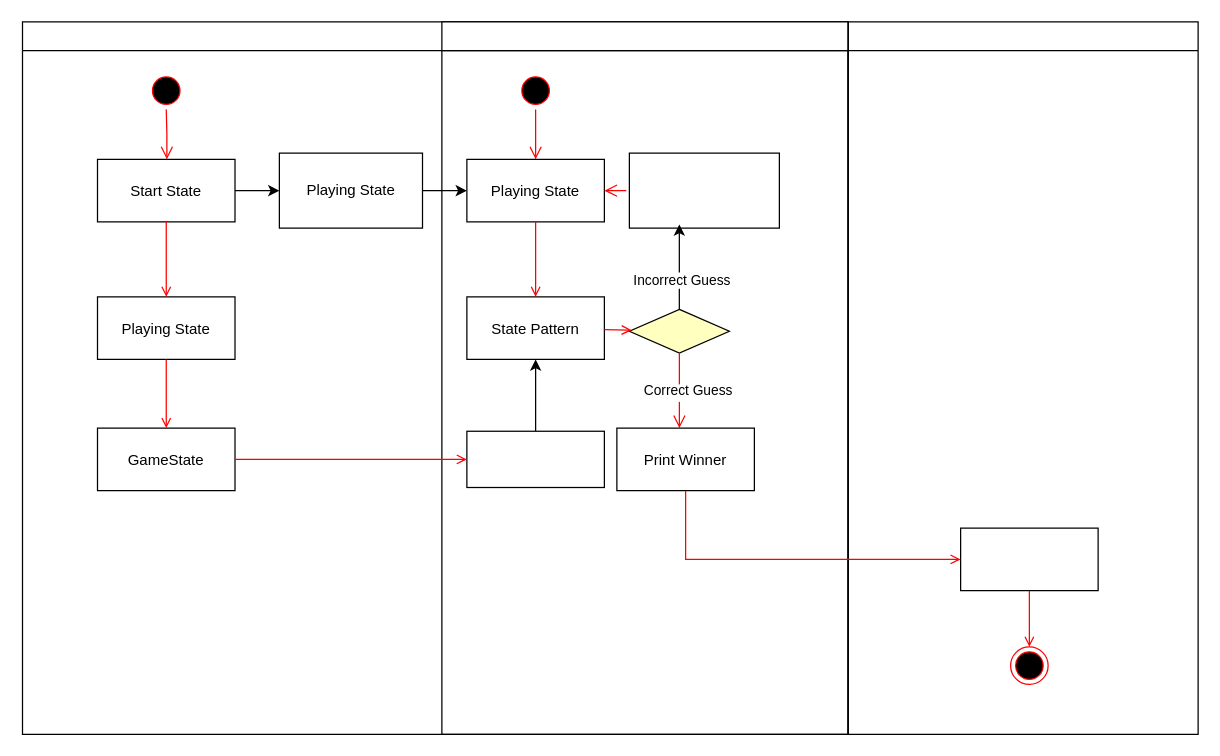
This 1220x756 diagram has some shape labels left out. The centre of each missing label's shape, as x and y in pixels:
"Done" goes at [1028,559].
"GameState Playing" goes at [535,459].
"Print Higher/Lower" goes at [703,190].
"User Inputs" goes at [678,330].
